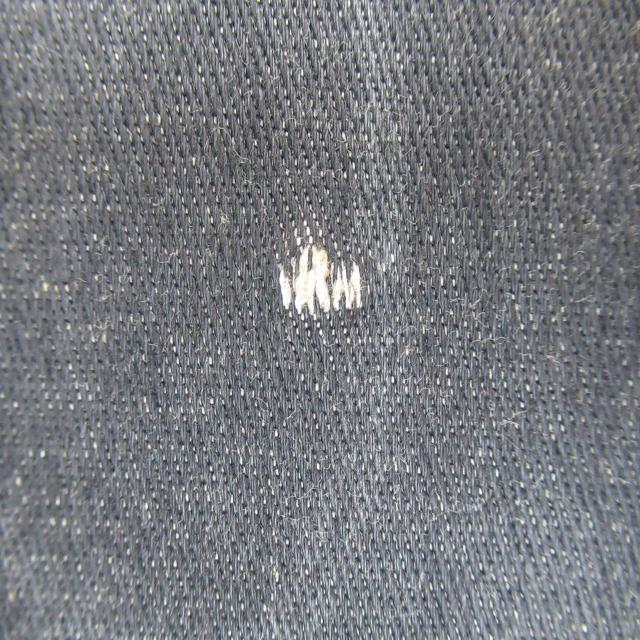pulled_or_thick_thread: (275, 246, 377, 329)
